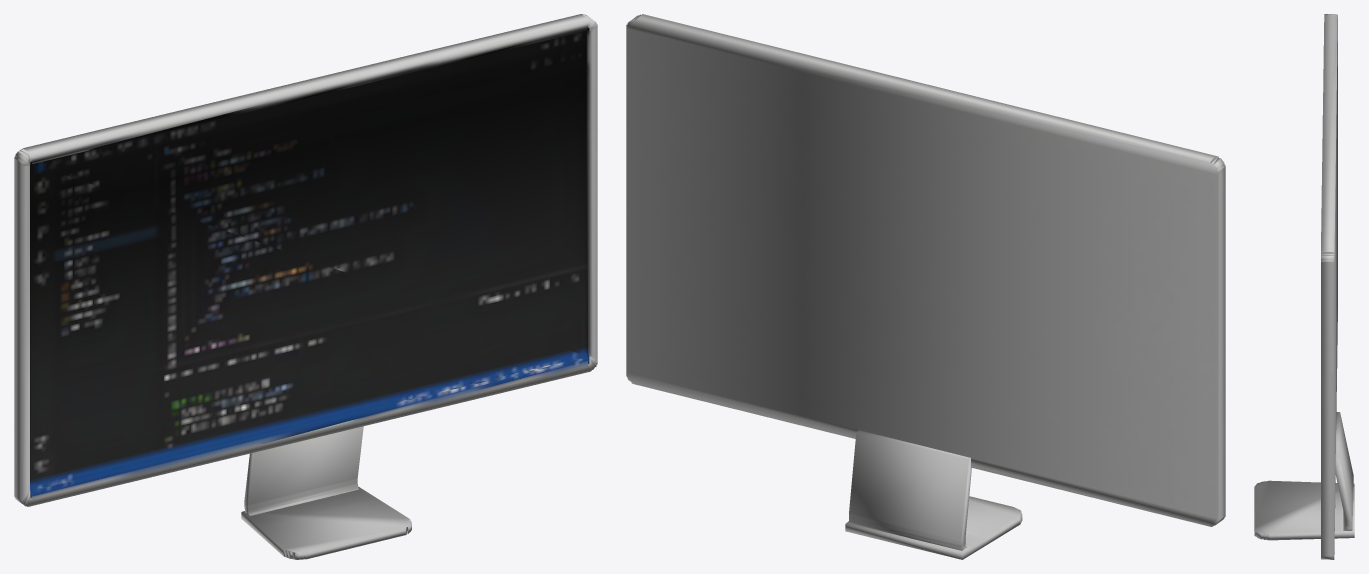
File: monitor-v3.glb
3 renders of one model, left to right at view 1: azimuth 30°, elevation 25°; view 2: azimuth 150°, elevation 25°; view 3: azimuth 270°, elevation 25°, orthographic. The views are drawn at different scales.
Visible parts, largest first — view 1: tripo_node_cf2f7d23-b06f-4437-83e1-544082eee250; view 2: tripo_node_cf2f7d23-b06f-4437-83e1-544082eee250; view 3: tripo_node_cf2f7d23-b06f-4437-83e1-544082eee250.
Boxes of the visible parts, <box> form: tripo_node_cf2f7d23-b06f-4437-83e1-544082eee250: <box>14,14,597,559</box>; tripo_node_cf2f7d23-b06f-4437-83e1-544082eee250: <box>626,14,1225,559</box>; tripo_node_cf2f7d23-b06f-4437-83e1-544082eee250: <box>1254,14,1354,559</box>.
Size of the model in its own units: 0.998 by 0.7207 by 0.1738.
Materials: 1 (1 with a texture image).
